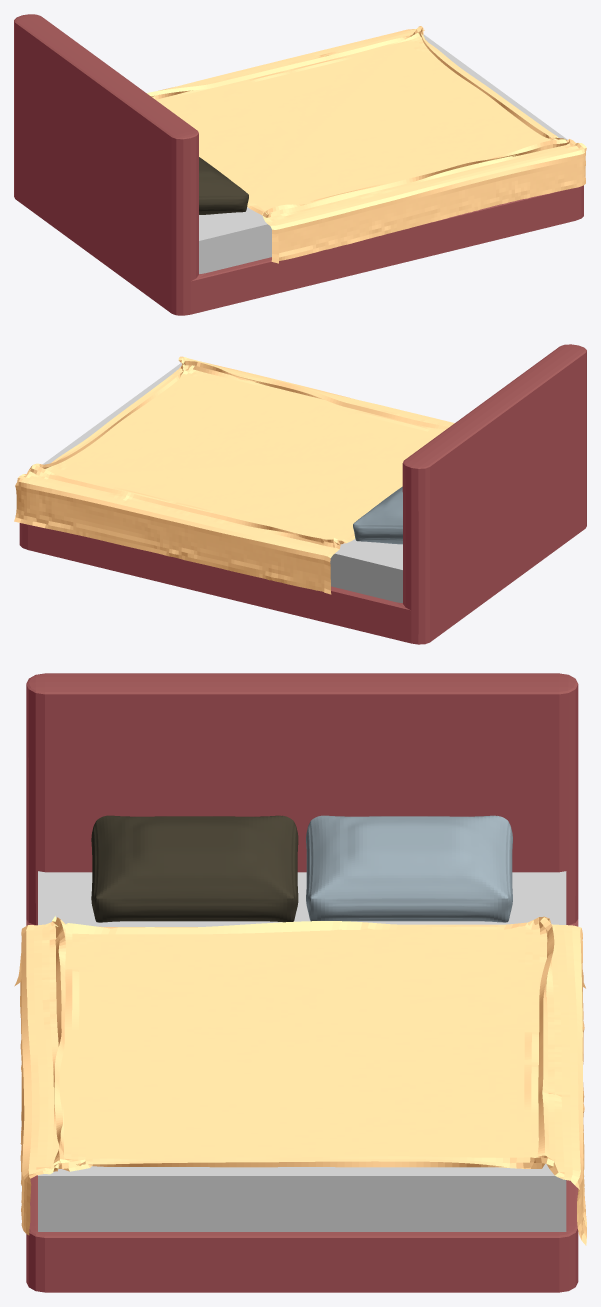
Rendered from Bed.fbx.
The picture shows the model from 3 angles, top to bottom: view 1: azimuth 30°, elevation 25°; view 2: azimuth 150°, elevation 25°; view 3: azimuth 270°, elevation 25°; orthographic projection. The views are drawn at different scales.
Parts seen in each view (by area): view 1: Plane, Cube, Cube.001, Cube.002; view 2: Plane, Cube, Cube.001, Cube.003; view 3: Plane, Cube, Cube.001, Cube.002, Cube.003.
Boxes of the visible parts, x1,y1,x2,y2 form: Plane: (147, 26, 586, 263); Cube: (14, 14, 583, 315); Cube.001: (199, 34, 567, 273); Cube.002: (199, 157, 248, 214); Plane: (14, 356, 454, 594); Cube: (19, 344, 586, 644); Cube.001: (42, 363, 402, 602); Cube.003: (353, 486, 402, 544); Plane: (14, 916, 586, 1245); Cube: (26, 673, 578, 1292); Cube.001: (38, 871, 566, 1231); Cube.002: (91, 815, 298, 922); Cube.003: (306, 815, 512, 922).
Bounding box in the file's own units: 664 × 276 × 488.
